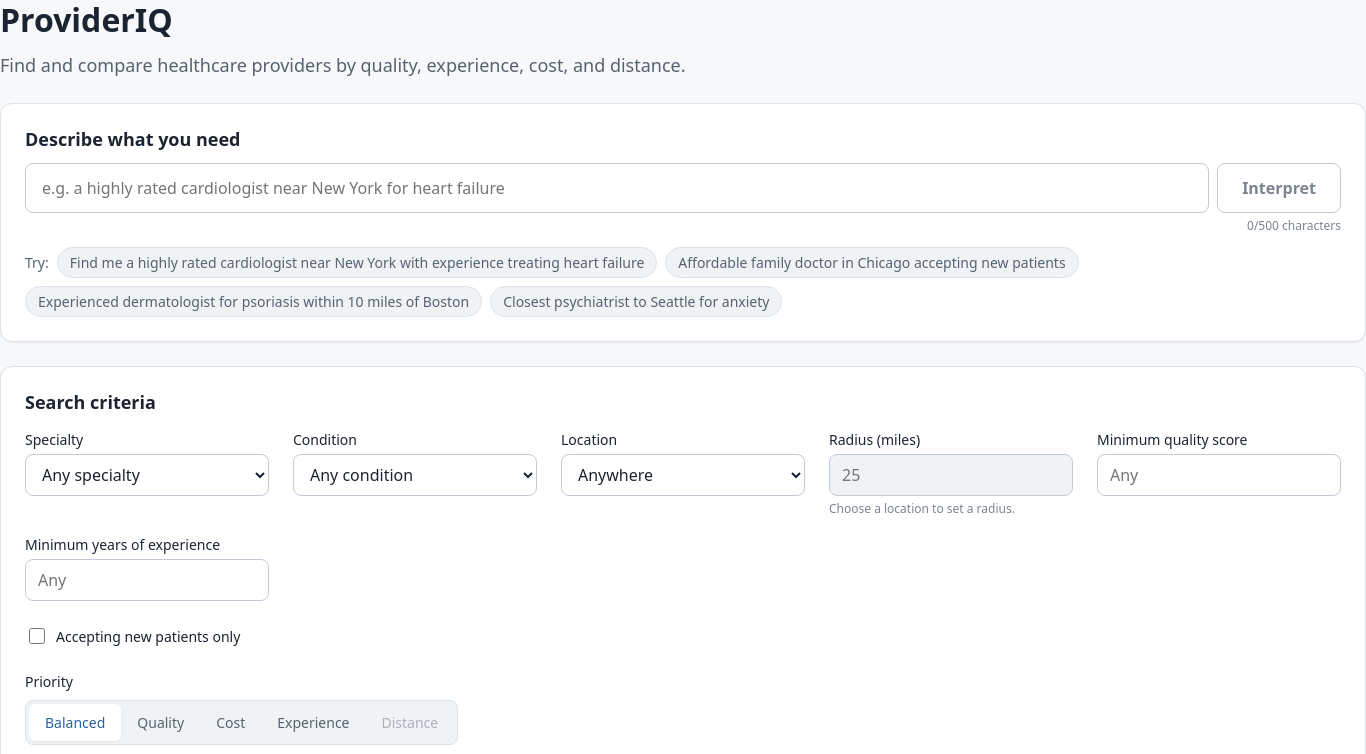
Test: SearchPage › Interpret › shows the friendly message for a 429
Type "cardiologist" into the field named "Describe the provider you're looking for".
click(617, 188); type("cardiologist")  # box [25,162,1209,212]
Then press Enter
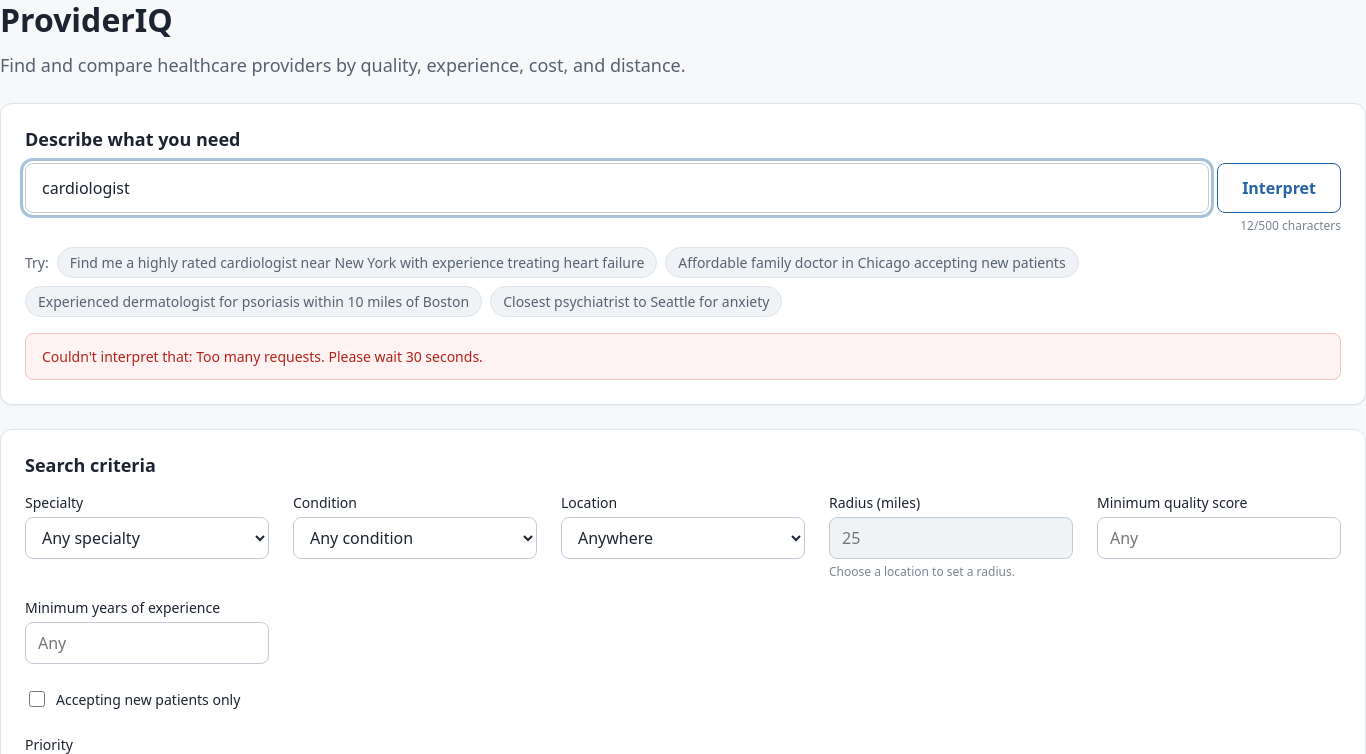
Expected: the message shows "Too many requests. Please wait 30 seconds.", [196,346,483,366]
